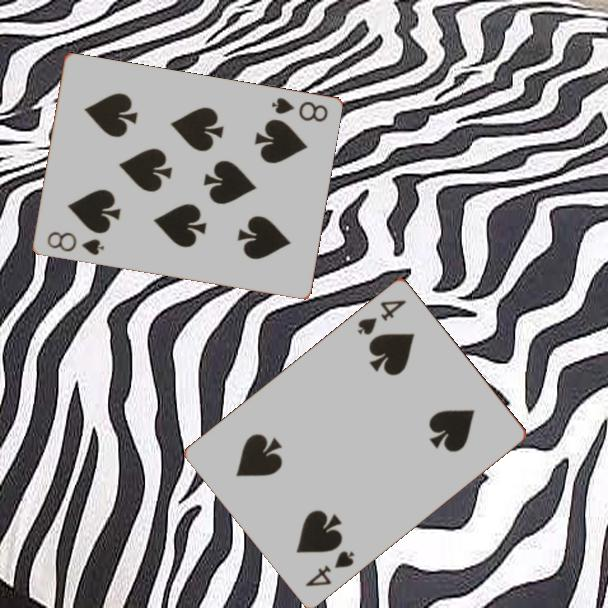s04: (353, 296, 409, 338), (302, 547, 358, 589)
s08: (267, 94, 330, 125), (43, 228, 107, 258)
